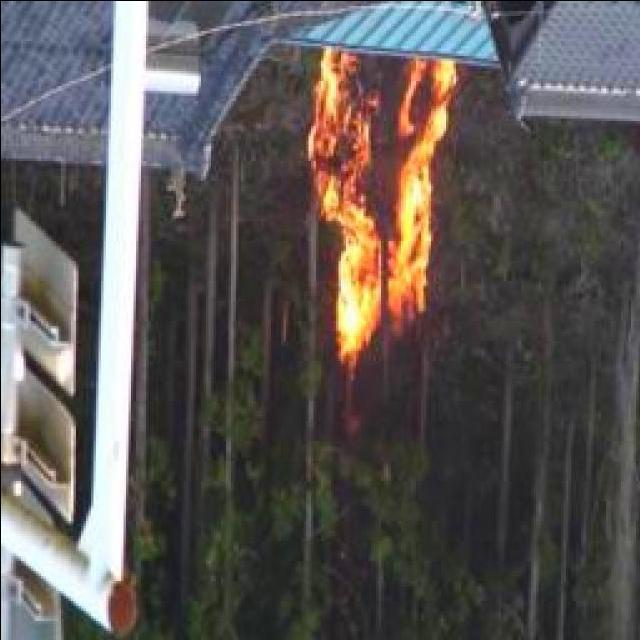Fire: (303, 46, 457, 345)
